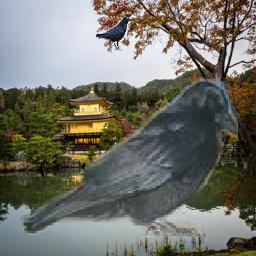Crow: (20, 77, 239, 237), (96, 17, 133, 52)
